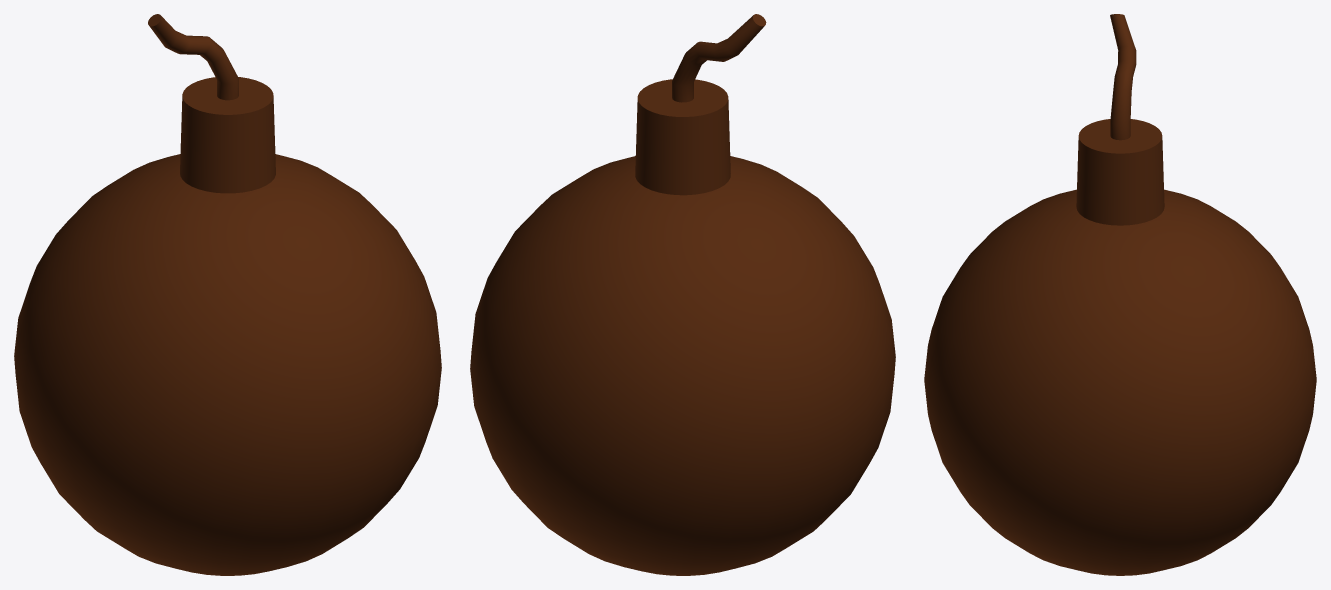
File: pest_control_bomb_new.fbx
3 renders of one model, left to right at view 1: azimuth 30°, elevation 25°; view 2: azimuth 150°, elevation 25°; view 3: azimuth 270°, elevation 25°, orthographic. The views are drawn at different scales.
Parts seen in each view (by area): view 1: bomb_lowpoly; view 2: bomb_lowpoly; view 3: bomb_lowpoly.
Part boxes in pixels (left/top/right/bottom): bomb_lowpoly: left=14, top=14, right=441, bottom=575; bomb_lowpoly: left=470, top=14, right=895, bottom=575; bomb_lowpoly: left=924, top=14, right=1316, bottom=575.
Bounding box in the file's own units: 456 × 456 × 657.
